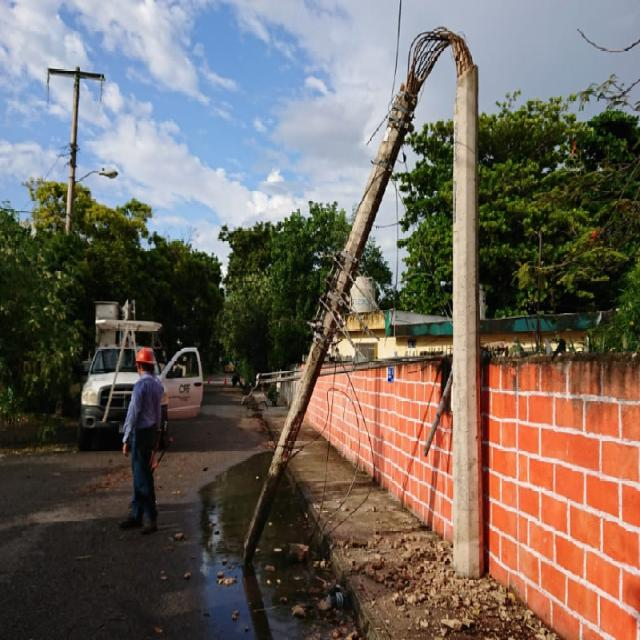Inclined Pole: (267, 20, 487, 576)
